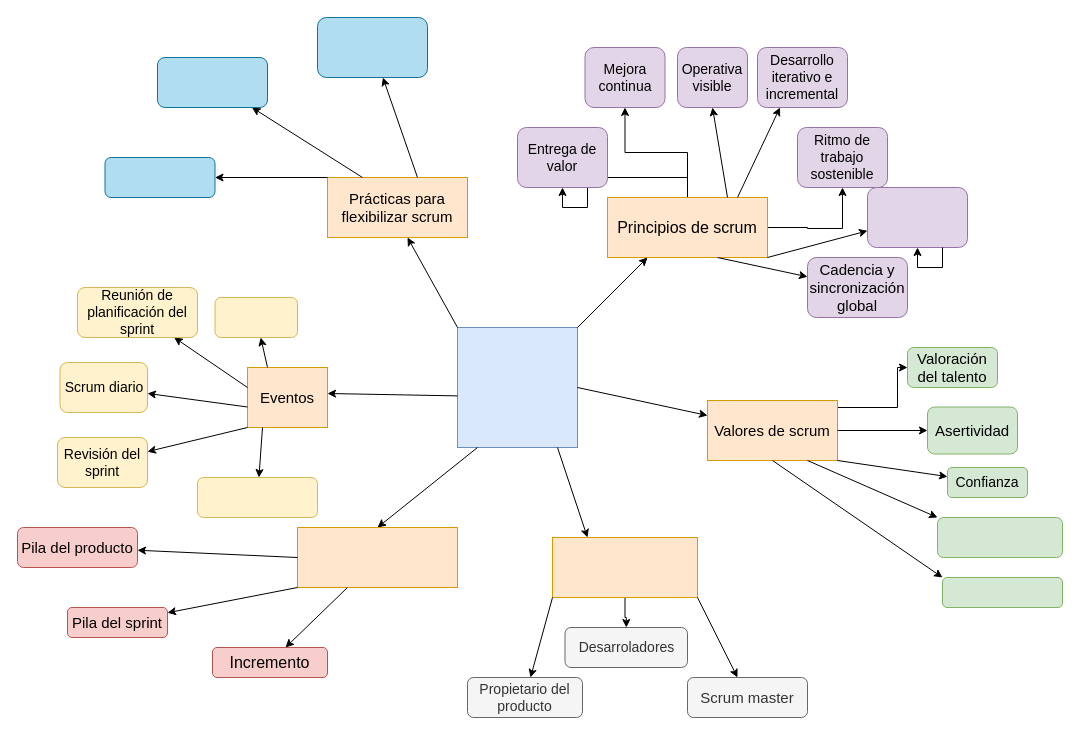
This 1080x735 diagram has some shape labels left out. Each missing label, with the centre of its shape:
Artefactos de scrum: point (377, 557)
Atención continua a la excelencia: point (917, 217)
Estimación de póquer.: point (212, 82)
Estimación sin puntos de historia.: point (372, 47)
Estructura desjerarquizada.: point (999, 537)
Gráfico burn down.: point (159, 177)
Personas y sus roles: point (625, 567)
Principios y valores de scrum: point (517, 387)
Propósito común: point (1002, 592)
Retrospectiva del sprint: point (257, 497)
Sprint: point (256, 317)
